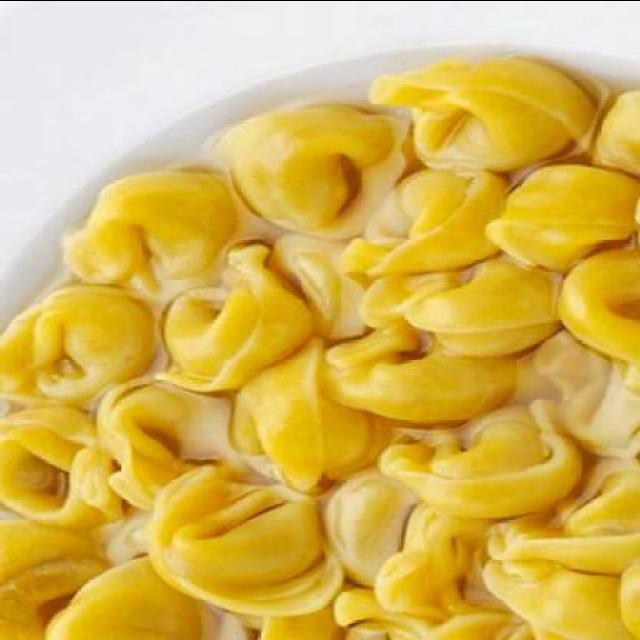Tortellini in broth: (31, 60, 627, 612)
